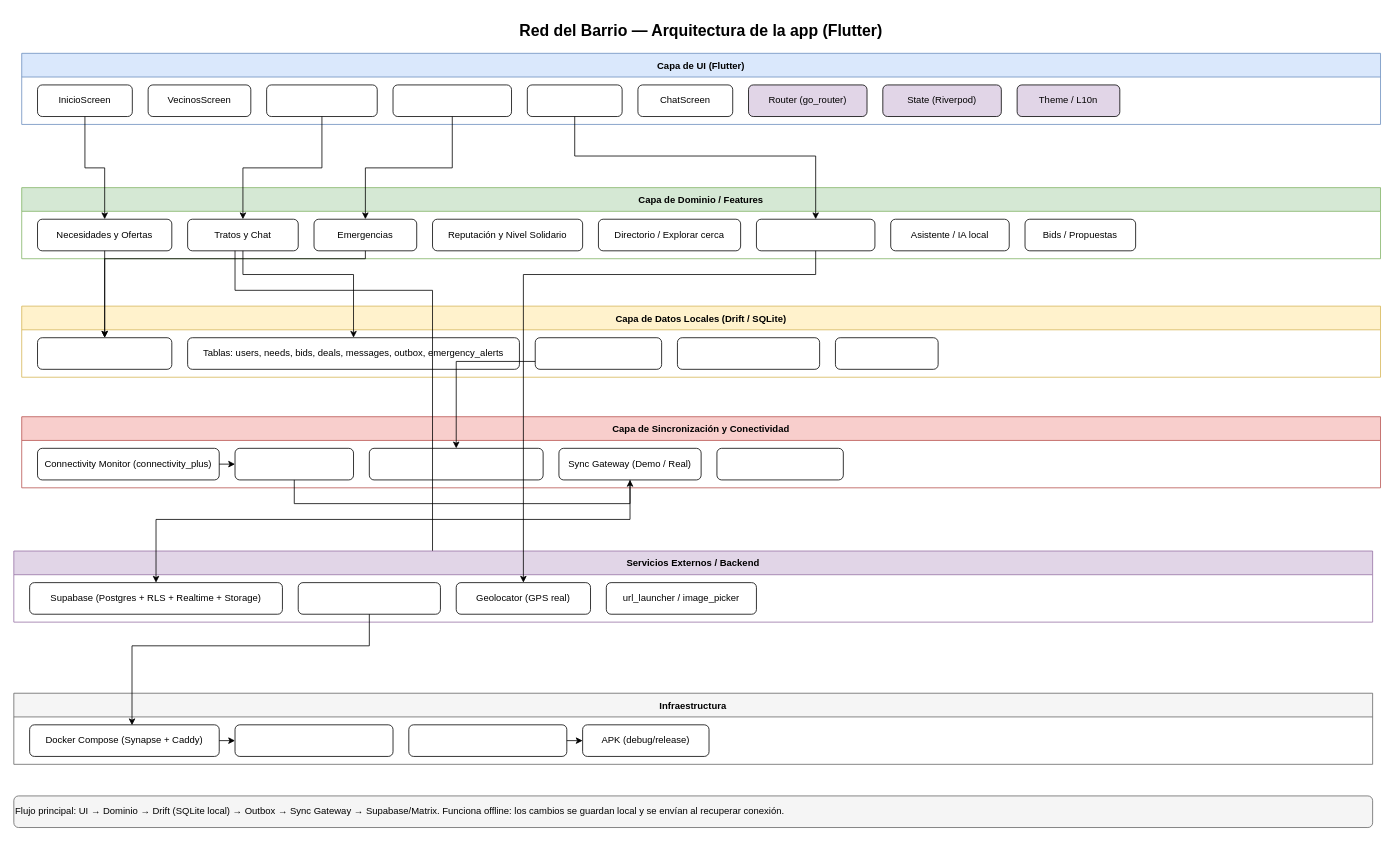
Image size: 1394x841. Some labels were removed from this diagram. The shapes that lost their labels are listed below. From the top down, each one's centre as x and y in pixels, then its label:
At pixel 321 100: "MensajesScreen".
At pixel 452 100: "EmergenciaScreen".
At pixel 574 100: "PerfilScreen".
At pixel 815 234: "Perfil y Ubicación".
At pixel 104 353: "Drift (AppDatabase)".
At pixel 598 353: "Outbox (cola offline)".
At pixel 748 353: "Storage Guard (espacio / fotos)".
At pixel 886 353: "Result / Failure".
At pixel 294 464: "Sync Controller".
At pixel 456 464: "Flush Outbox (idempotente, txn_id)".
At pixel 779 464: "Connection Banner".
At pixel 368 598: "Matrix / Synapse (Chat)".
At pixel 313 740: "VPS + Dominio (DuckDNS)".
At pixel 487 740: "Android Studio / Flutter SDK".
